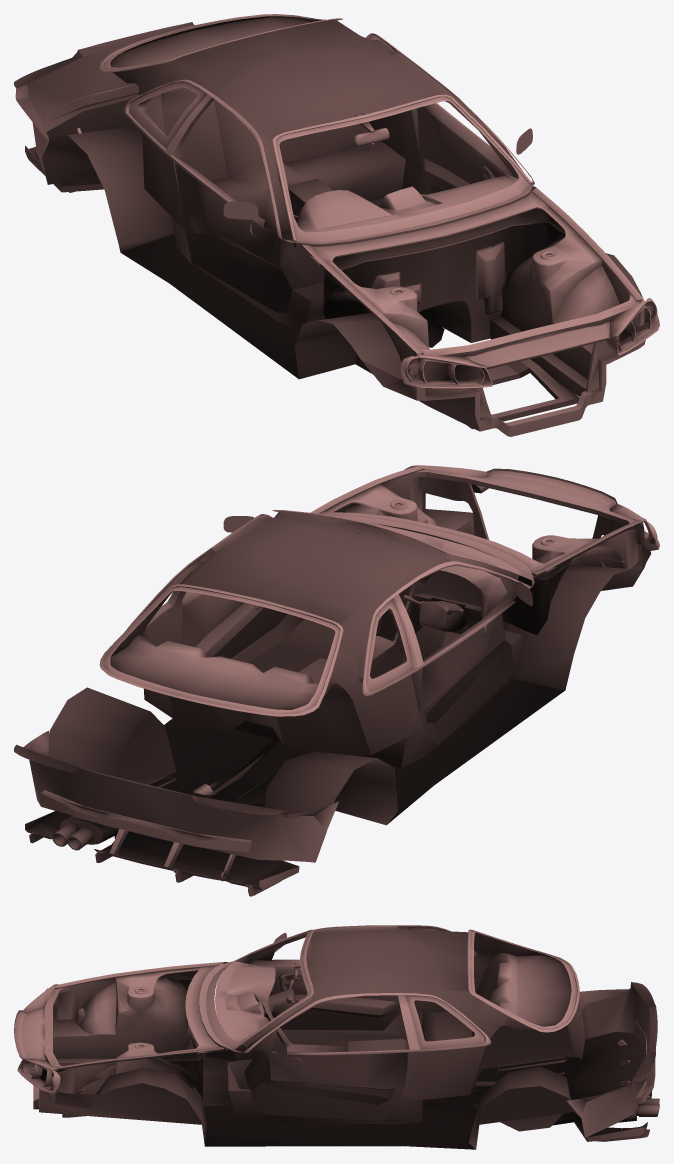
The model's file is R34_Chassis_Trim.fbx.
3 views of the same model, one above another, from view 1: azimuth 30°, elevation 25°; view 2: azimuth 150°, elevation 25°; view 3: azimuth 270°, elevation 25° (orthographic). The views are drawn at different scales.
Visible parts, largest first — view 1: R34_Chassis_Trim; view 2: R34_Chassis_Trim; view 3: R34_Chassis_Trim.
Part boxes in pixels (x1,y1,x2,y2): R34_Chassis_Trim: [14, 14, 659, 436]; R34_Chassis_Trim: [14, 465, 659, 896]; R34_Chassis_Trim: [14, 925, 659, 1149].
Bounding box in the file's own units: 188 × 119 × 448.
